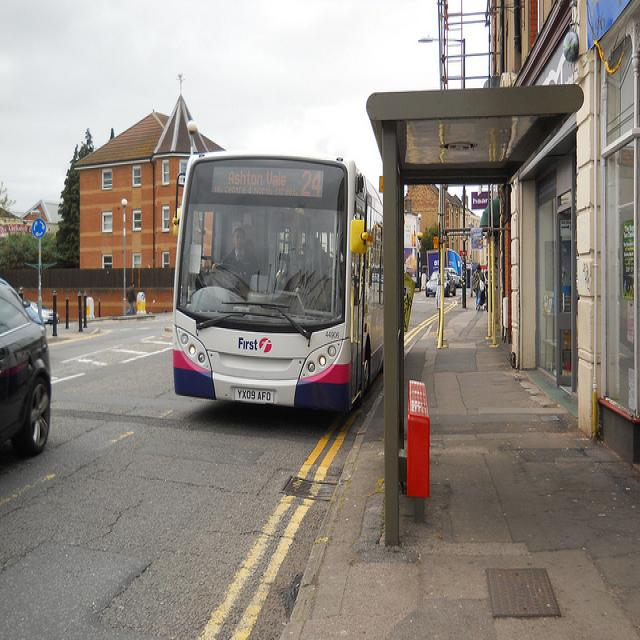Vehicle: (170, 160, 386, 422), (0, 279, 57, 457), (426, 270, 457, 298), (30, 301, 60, 326), (448, 271, 464, 287)
